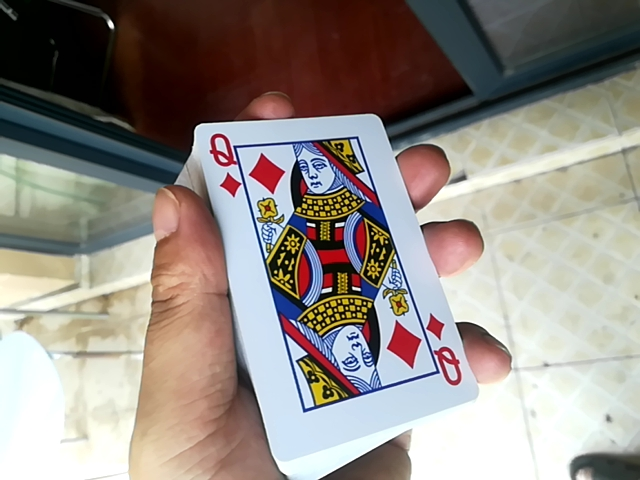fk q: (193, 102, 481, 476)
